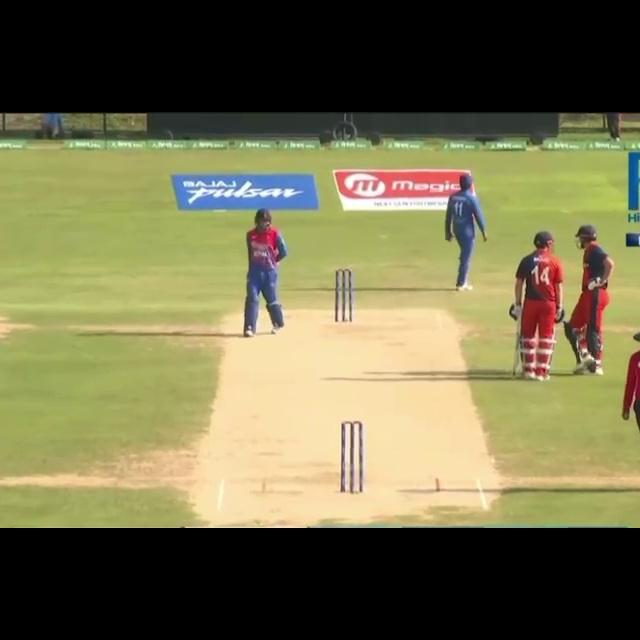umpire: (608, 322, 640, 495)
